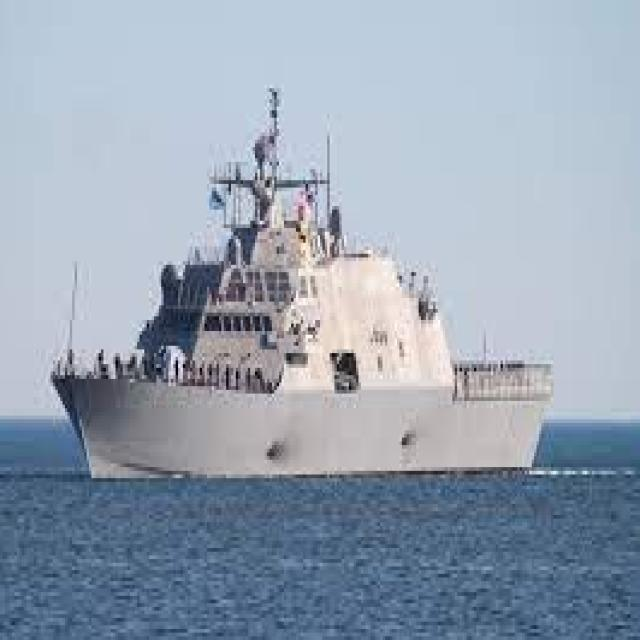navalvessels: (38, 110, 560, 492)
